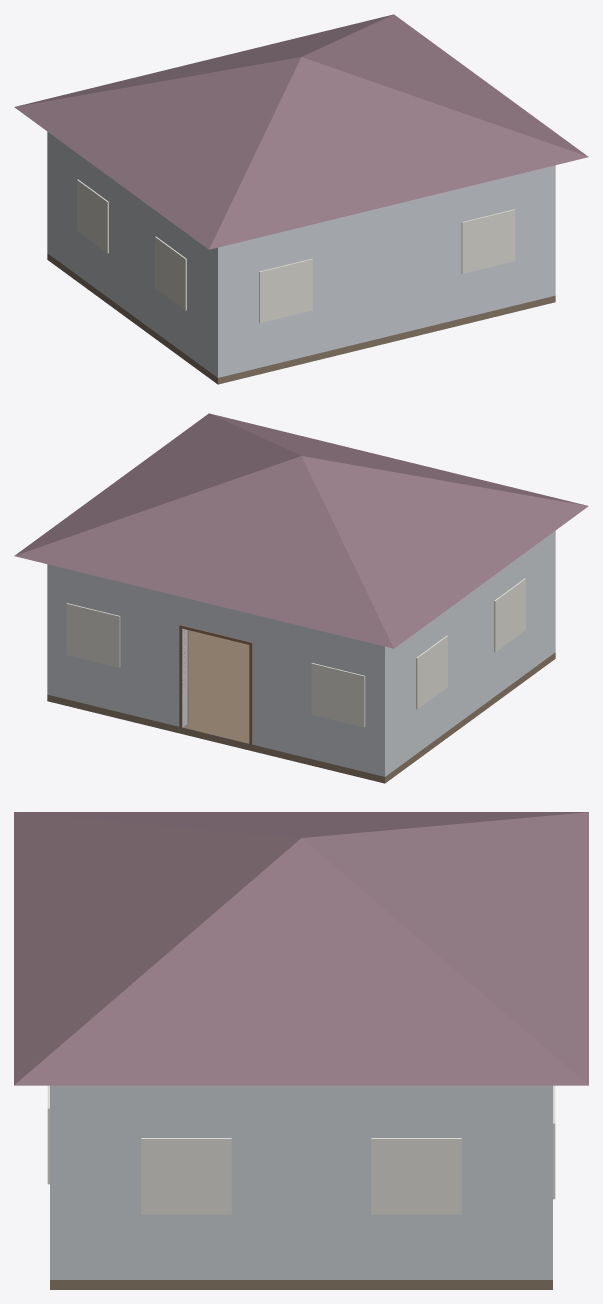
The model's file is house-d.glb.
The picture shows the model from 3 angles, top to bottom: view 1: azimuth 30°, elevation 25°; view 2: azimuth 150°, elevation 25°; view 3: azimuth 270°, elevation 25°; orthographic projection. The views are drawn at different scales.
Parts seen in each view (by area): view 1: roof, wall_back, wall_left, floor, winframe.005, winframe.004, winframe, winframe.001, front_L; view 2: roof, wall_left, front_L, front_R, floor, winframe.006, winframe.007, front_lintel, winframe, winframe.001, wall_right, wall_back (+1 smaller); view 3: roof, wall_right, winframe.002, winframe.003, floor, wall_back, front_R.
Part boxes in pixels (<box>): roof: <box>14,14,588,249</box>; wall_back: <box>212,165,555,377</box>; wall_left: <box>47,132,227,377</box>; floor: <box>47,253,555,384</box>; winframe.005: <box>461,209,515,273</box>; winframe.004: <box>259,259,312,323</box>; winframe: <box>155,236,186,310</box>; winframe.001: <box>77,179,108,253</box>; front_L: <box>47,132,52,256</box>; roof: <box>14,413,588,648</box>; wall_left: <box>375,532,555,776</box>; front_L: <box>250,613,390,776</box>; front_R: <box>47,564,187,727</box>; floor: <box>47,630,555,783</box>; winframe.006: <box>311,663,365,727</box>; winframe.007: <box>66,603,120,667</box>; front_lintel: <box>182,597,249,641</box>; winframe: <box>494,578,525,652</box>; winframe.001: <box>416,635,447,709</box>; wall_right: <box>47,565,56,696</box>; wall_back: <box>550,531,555,655</box>; roof: <box>14,812,588,1085</box>; wall_right: <box>50,1085,552,1279</box>; winframe.002: <box>141,1138,231,1214</box>; winframe.003: <box>371,1138,461,1214</box>; floor: <box>50,1280,552,1289</box>; wall_back: <box>50,1085,65,1279</box>; front_R: <box>537,1085,552,1279</box>.
Bounding box in the file's own units: 9 × 5.07 × 8.
